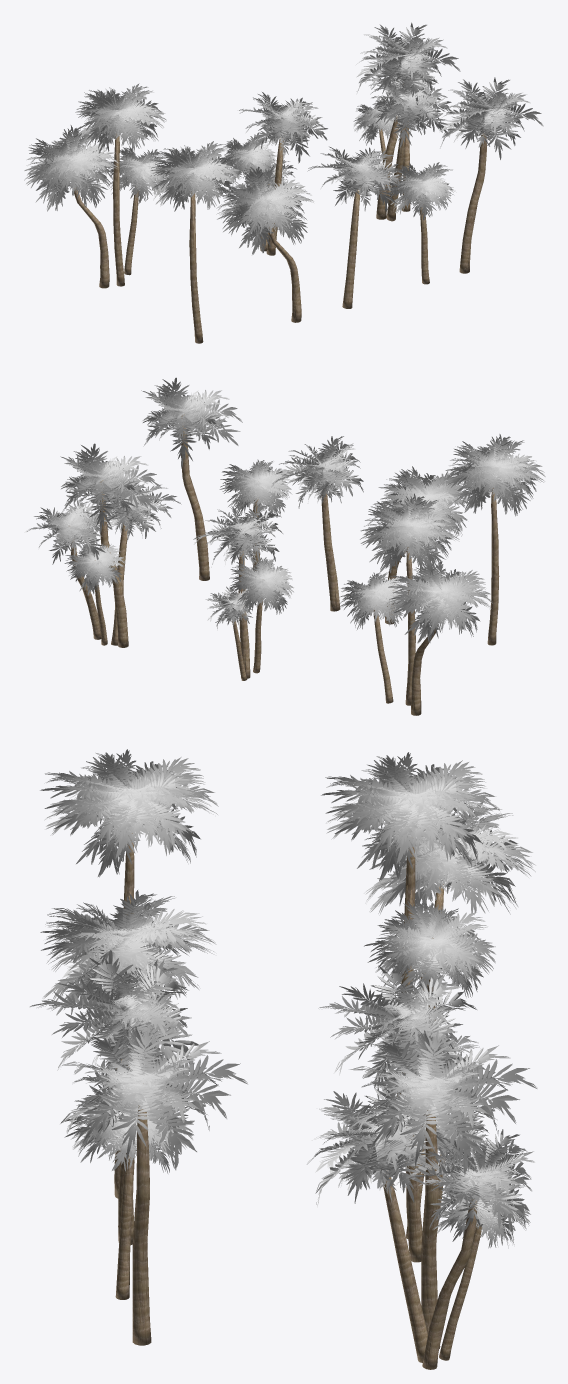
The model's file is Palms B.fbx.
The picture shows the model from 3 angles, top to bottom: view 1: azimuth 30°, elevation 25°; view 2: azimuth 150°, elevation 25°; view 3: azimuth 270°, elevation 25°; orthographic projection. The views are drawn at different scales.
Visible parts, largest first — view 1: Palm_Tree_Group_2A3, Palm_Tree_Group_2A2, Palm_Tree_Group_2A3.001, Palm_Tree_2A3, Palm_Tree_2A5, Palm_Tree_Group_2A3.002, Palm_Tree_Group_2A1, Palm_Tree_Group_2A2.001, Palm_Tree_Group_2A2.002, Palm_Tree_2A4, Palm_Tree_2A2, Palm_Tree_2A1 (+12 smaller); view 2: Palm_Tree_Group_2A3, Palm_Tree_Group_2A2, Palm_Tree_Group_2A1, Palm_Tree_Group_2A3.001, Palm_Tree_Group_2A2.001, Palm_Tree_2A5, Palm_Tree_Group_2A2.002, Palm_Tree_Group_2A3.002, Palm_Tree_2A4, Palm_Tree_2A2, Palm_Tree_Group_2A1.002, Palm_Tree_Group_2A1.001 (+12 smaller); view 3: Palm_Tree_Group_2A2, Palm_Tree_Group_2A3, Palm_Tree_Group_2A2.001, Palm_Tree_Group_2A3.001, Palm_Tree_Group_2A2.002, Palm_Tree_2A4, Palm_Tree_Group_2A3.002, Palm_Tree_2A5, Palm_Tree_2A3, Palm_Tree_Group_2A1, Palm_Tree_2A2, Palm_Tree_2A4.001 (+12 smaller).
Part boxes in pixels (left/top/right/bottom): Palm_Tree_Group_2A3: left=24, top=83, right=166, bottom=288; Palm_Tree_Group_2A2: left=354, top=24, right=459, bottom=221; Palm_Tree_Group_2A3.001: left=25, top=84, right=167, bottom=286; Palm_Tree_2A3: left=217, top=166, right=313, bottom=322; Palm_Tree_2A5: left=150, top=142, right=242, bottom=343; Palm_Tree_Group_2A3.002: left=27, top=86, right=165, bottom=266; Palm_Tree_Group_2A1: left=219, top=92, right=327, bottom=255; Palm_Tree_Group_2A2.001: left=354, top=22, right=460, bottom=218; Palm_Tree_Group_2A2.002: left=355, top=27, right=451, bottom=196; Palm_Tree_2A4: left=440, top=77, right=543, bottom=273; Palm_Tree_2A2: left=308, top=146, right=402, bottom=308; Palm_Tree_2A1: left=385, top=162, right=453, bottom=284; Palm_Tree_Group_2A3: left=339, top=496, right=491, bottom=715; Palm_Tree_Group_2A2: left=26, top=443, right=180, bottom=647; Palm_Tree_Group_2A1: left=193, top=504, right=293, bottom=680; Palm_Tree_Group_2A3.001: left=340, top=493, right=492, bottom=714; Palm_Tree_Group_2A2.001: left=33, top=444, right=181, bottom=644; Palm_Tree_2A5: left=445, top=436, right=545, bottom=645; Palm_Tree_Group_2A2.002: left=27, top=449, right=171, bottom=593; Palm_Tree_Group_2A3.002: left=346, top=496, right=487, bottom=703; Palm_Tree_2A4: left=141, top=378, right=241, bottom=580; Palm_Tree_2A2: left=272, top=436, right=363, bottom=611; Palm_Tree_Group_2A1.002: left=194, top=505, right=289, bottom=674; Palm_Tree_Group_2A1.001: left=199, top=503, right=293, bottom=675; Palm_Tree_Group_2A2: left=308, top=1028, right=536, bottom=1369; Palm_Tree_Group_2A3: left=322, top=752, right=535, bottom=1096; Palm_Tree_Group_2A2.001: left=314, top=1028, right=536, bottom=1366; Palm_Tree_Group_2A3.001: left=321, top=753, right=535, bottom=996; Palm_Tree_Group_2A2.002: left=308, top=1033, right=525, bottom=1351; Palm_Tree_2A4: left=60, top=1024, right=247, bottom=1345; Palm_Tree_Group_2A3.002: left=332, top=753, right=526, bottom=991; Palm_Tree_2A5: left=41, top=749, right=217, bottom=913; Palm_Tree_2A3: left=40, top=892, right=215, bottom=1198; Palm_Tree_Group_2A1: left=318, top=961, right=488, bottom=1262; Palm_Tree_2A2: left=30, top=950, right=196, bottom=1244; Palm_Tree_2A4.001: left=62, top=1023, right=247, bottom=1340.
Size of the model in its own units: 4662 by 2033 by 2764.
